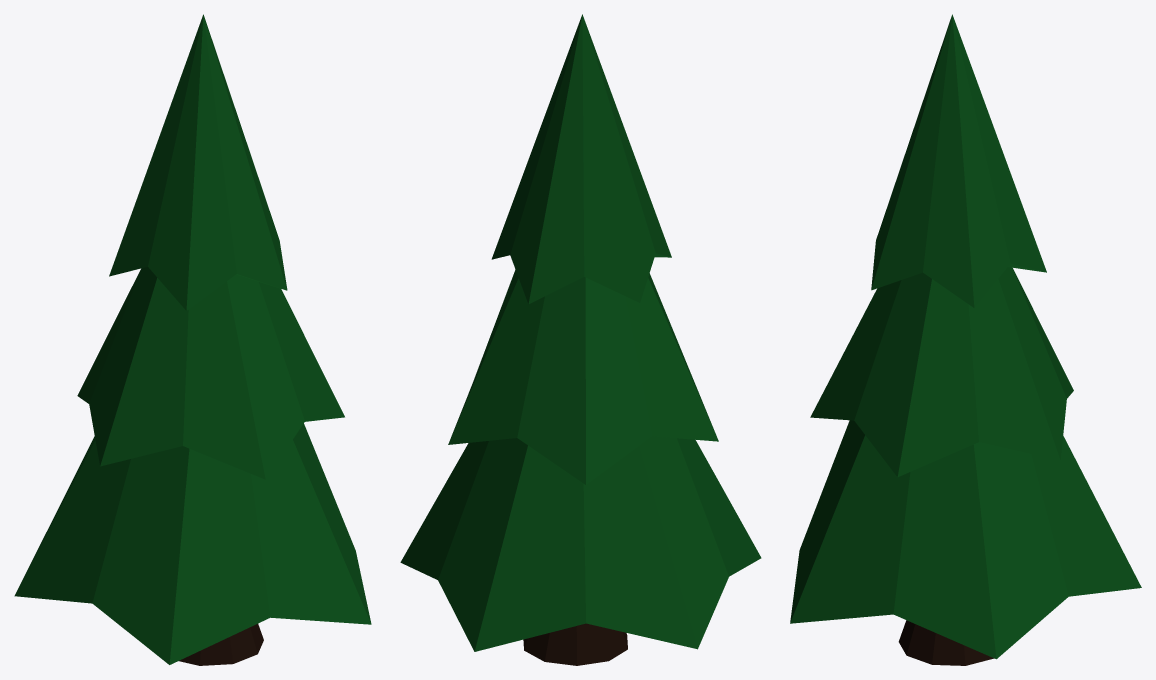
File: sprouce2.FBX
The picture shows the model from 3 angles, left to right: view 1: azimuth 30°, elevation 25°; view 2: azimuth 150°, elevation 25°; view 3: azimuth 270°, elevation 25°; orthographic projection.
Parts seen in each view (by area): view 1: Cylinder006, Cylinder007; view 2: Cylinder006, Cylinder007; view 3: Cylinder006, Cylinder007.
Part boxes in pixels (bbox=[...]): Cylinder006: bbox=[14, 14, 371, 664]; Cylinder007: bbox=[179, 624, 263, 665]; Cylinder006: bbox=[400, 14, 761, 651]; Cylinder007: bbox=[523, 623, 627, 665]; Cylinder006: bbox=[790, 14, 1141, 659]; Cylinder007: bbox=[898, 620, 993, 665].
Size of the model in its own units: 8.4 by 16.21 by 8.25.
